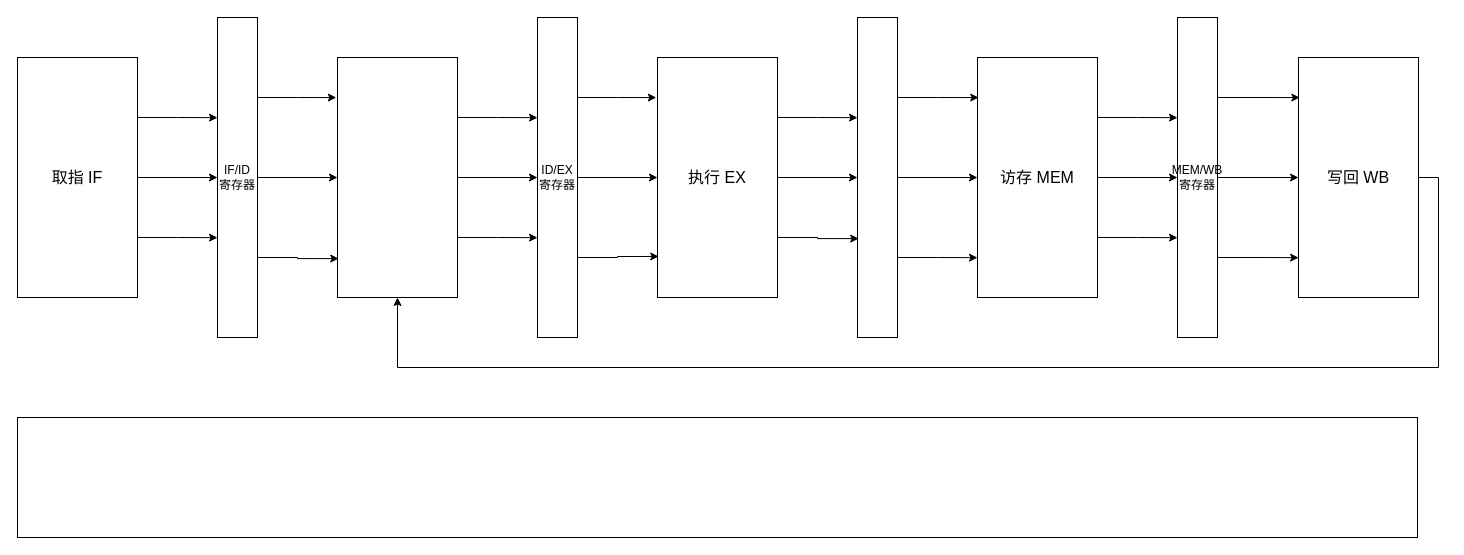
Some shapes in this 1464 by 555 pixel diagram are drawn without their labels. Here are the shapes that lost their labels. From the top down, the centre of each, then its label:
point (397, 177): 译码 ID
point (877, 177): EX/MEM 寄存器
point (717, 477): 控制单元
